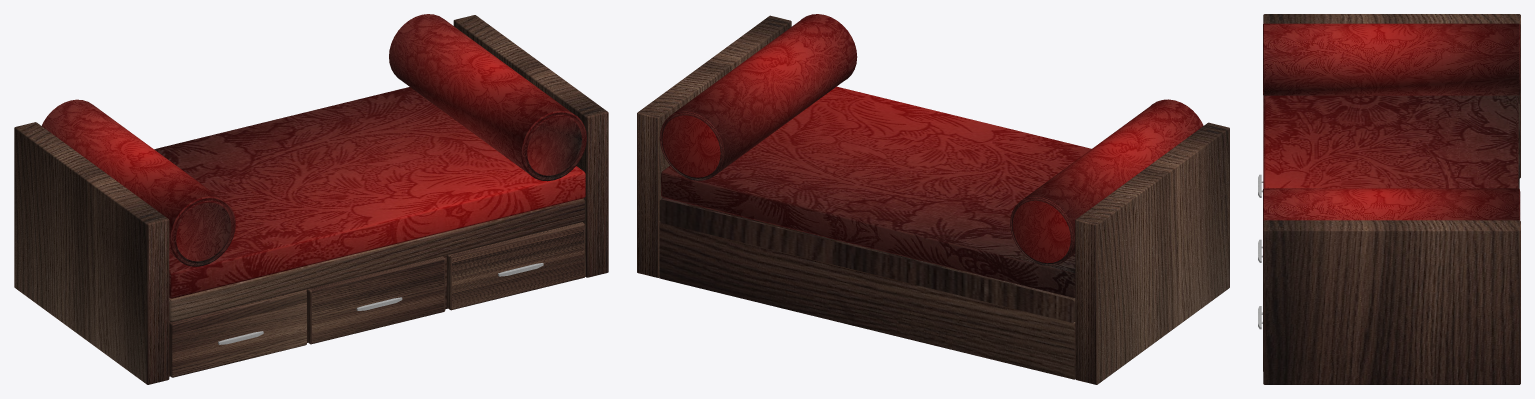
The model's file is bedsofa.obj.
3 views of the same model, side by side, from view 1: azimuth 30°, elevation 25°; view 2: azimuth 150°, elevation 25°; view 3: azimuth 270°, elevation 25° (orthographic). The views are drawn at different scales.
Parts seen in each view (by area): view 1: Cube.002, Cube, Cylinder.001, Cylinder, Box003, Box008, Box007, Cube.001, Box006; view 2: Cube.002, Cube, Box002, Cylinder.001, Cylinder, Box003, Cube.001; view 3: Cube.001, Cube.002, Cylinder, Cylinder.001, Cube.
Part boxes in pixels (x1,y1,x2,y2): Cube.002: (154,87,585,298); Cube: (14,122,169,384); Cylinder.001: (389,14,586,181); Cylinder: (42,99,235,266); Box003: (169,198,585,322); Box008: (446,222,585,310); Box007: (306,256,445,344); Cube.001: (453,15,608,277); Box006: (169,290,306,377); Cube.002: (661,86,1091,297); Cube: (1075,122,1229,384); Box002: (659,222,1075,379); Cylinder.001: (659,14,857,180); Cylinder: (1010,99,1203,266); Box003: (659,198,1075,322); Cube.001: (637,15,791,277); Cube.001: (1263,220,1520,384); Cube.002: (1263,95,1518,188); Cylinder: (1263,23,1520,95); Cylinder.001: (1263,188,1520,259); Cube: (1263,14,1520,178).
Size of the model in its own units: 72.14 by 26.07 by 36.96.
Materials: 16 (16 with a texture image).
